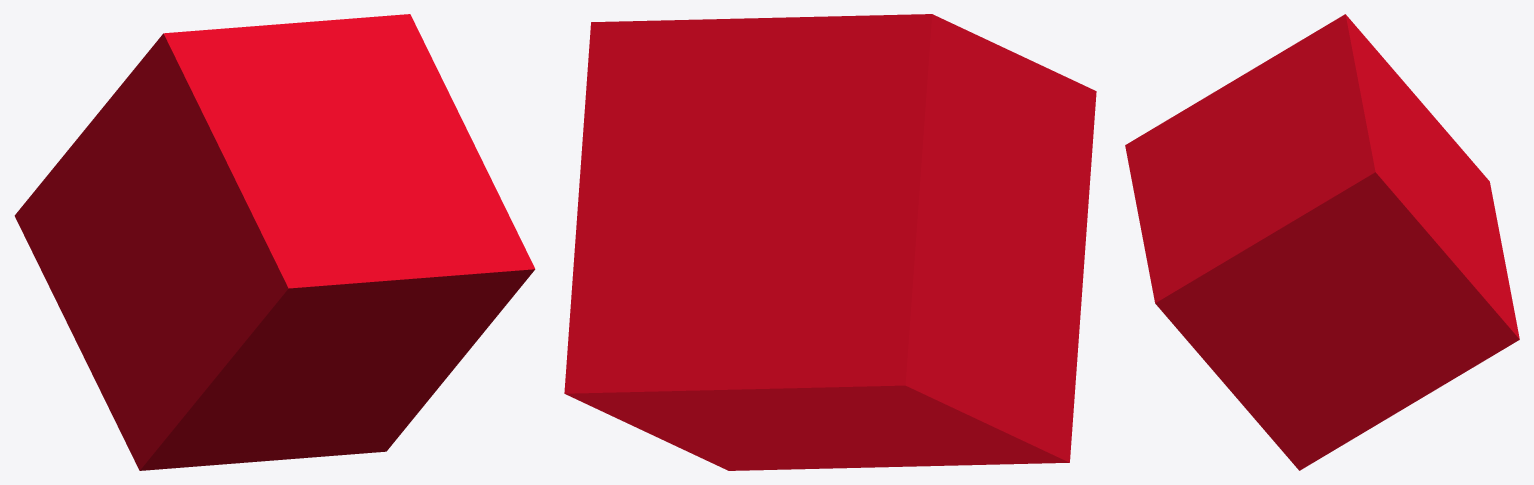
The picture shows the model from 3 angles, left to right: view 1: azimuth 30°, elevation 25°; view 2: azimuth 150°, elevation 25°; view 3: azimuth 270°, elevation 25°; orthographic projection. The views are drawn at different scales.
Visible parts, largest first — view 1: Cube; view 2: Cube; view 3: Cube.
Boxes of the visible parts, x1,y1,x2,y2 form: Cube: (14,14,535,470); Cube: (564,14,1096,470); Cube: (1125,14,1519,470).
Bounding box in the file's own units: 2.45 × 3.13 × 2.98.
